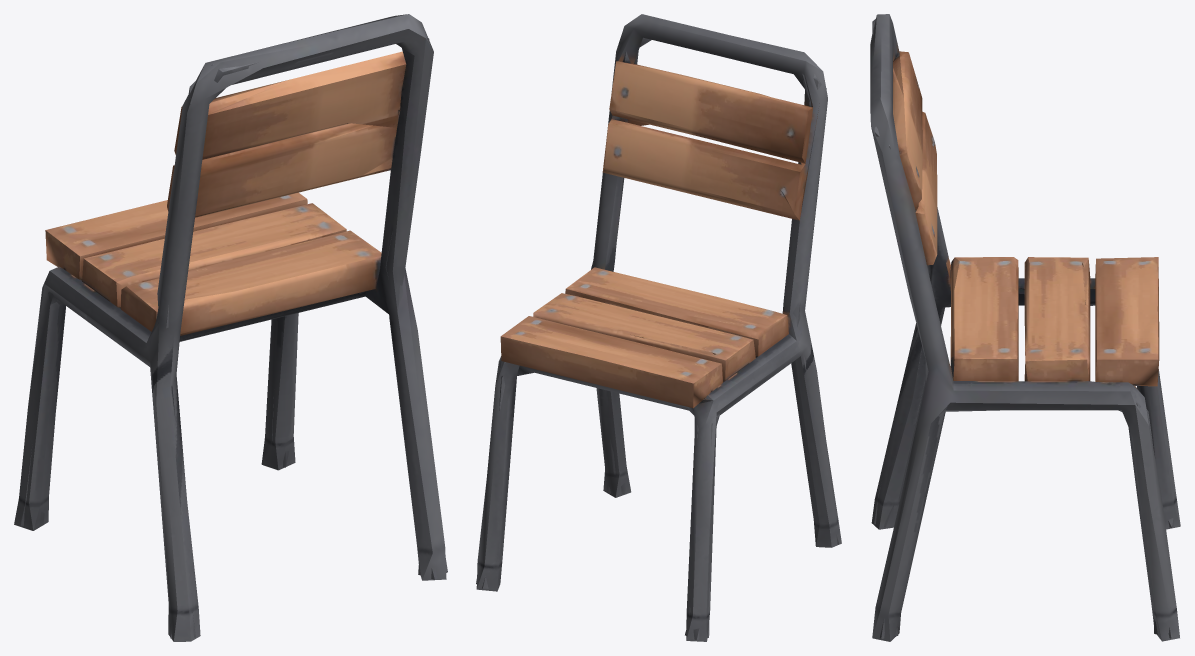
The model's file is seat_cafe-table_v2.glb.
3 renders of one model, left to right at view 1: azimuth 30°, elevation 25°; view 2: azimuth 150°, elevation 25°; view 3: azimuth 270°, elevation 25°, orthographic. The views are drawn at different scales.
Parts seen in each view (by area): view 1: body; view 2: body; view 3: body.
Boxes of the visible parts, box(x1,y1,x2,y2) form: body: box(14, 14, 447, 641); body: box(476, 14, 841, 641); body: box(870, 14, 1180, 641).
Bounding box in the file's own units: 0.4623 × 0.9123 × 0.4891.
1 material, 1 textured.
